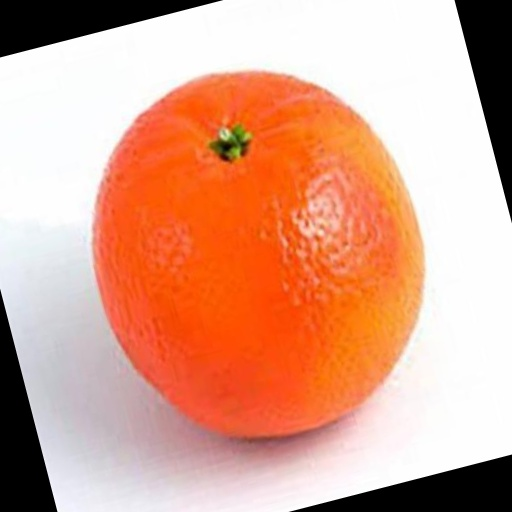fruit: (329, 42, 491, 348)
